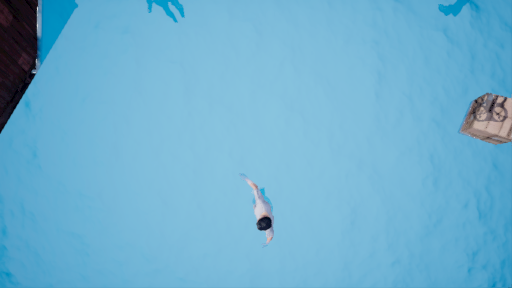person: (237, 172, 289, 245)
